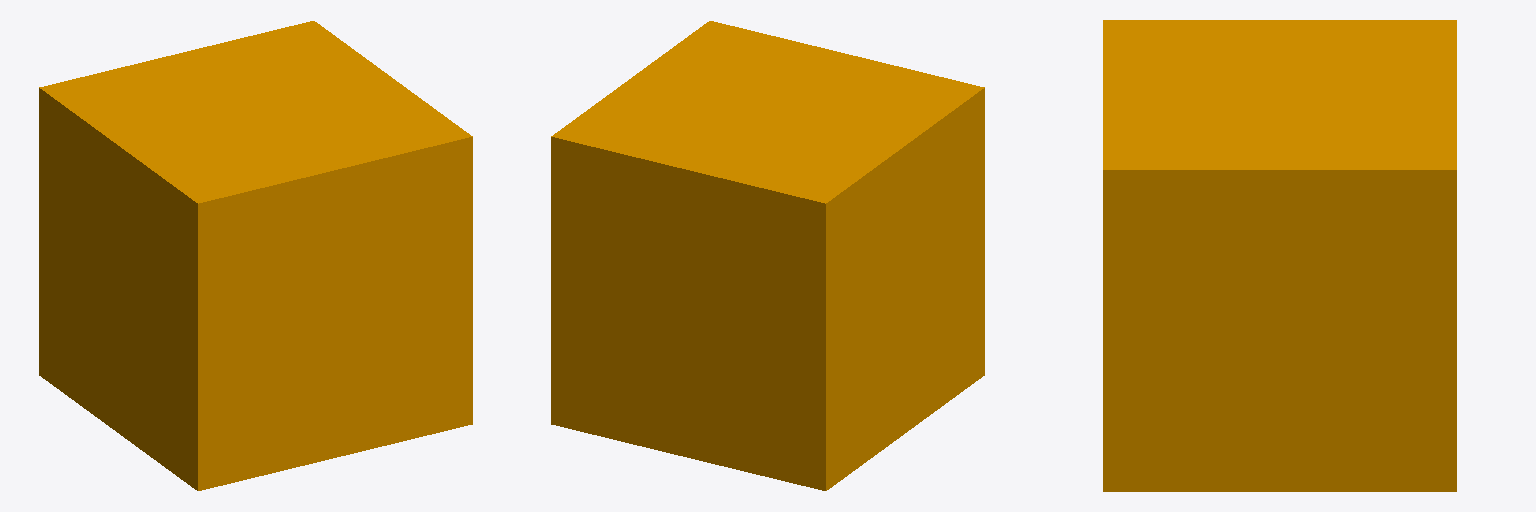
robot.urdf — urdf_robot:
<?xml version="0.0" ?>
<robot name="urdf_robot">

  <material name="red">
    <color rgba="0.8 0 0 1"/>
  </material>

  <link name="base_link">
    <contact>
      <lateral_friction value="1.0"/>
      <spinning_friction value="0.3"/>
      <inertia_scaling value="3.0"/>
    </contact>
    <inertial>
      <origin rpy="0 0 0" xyz="0 0 0"/>
      <mass value=".1"/>
      <inertia ixx="1" ixy="0" ixz="0" iyy="1" iyz="0" izz="1"/>
    </inertial>

    <collision>
      <origin rpy="0 0 0" xyz="0 0 0"/>
      <geometry>
        <mesh filename="package://task_objects/cube_meshes/red.obj"/>
      </geometry>
    </collision>
    <visual>
      <origin rpy="0 0 0" xyz="0 0 0"/>
      <geometry>
        <mesh filename="package://task_objects/cube_meshes/red.obj"/>
      </geometry>
    </visual>
  </link>
</robot>

--- Facts derived from the render (not from the file) ---
Views: 3 orthographic renders of the robot side by side, from view 1: azimuth 30°, elevation 25°; view 2: azimuth 150°, elevation 25°; view 3: azimuth 270°, elevation 25°.
Robot: urdf_robot — 1 links, 0 joints (none); root link base_link; default pose: every joint at zero.
Links seen in each view (by area): view 1: base_link; view 2: base_link; view 3: base_link.
Boxes of the visible links, box(x1,y1,x2,y2) form: base_link: box(39, 21, 472, 490); base_link: box(551, 21, 984, 490); base_link: box(1103, 20, 1456, 491).
Size in the robot's own frame: 250 by 250 by 250 metres.
1 mesh visuals loaded from 1 distinct referenced files (1 OBJ).